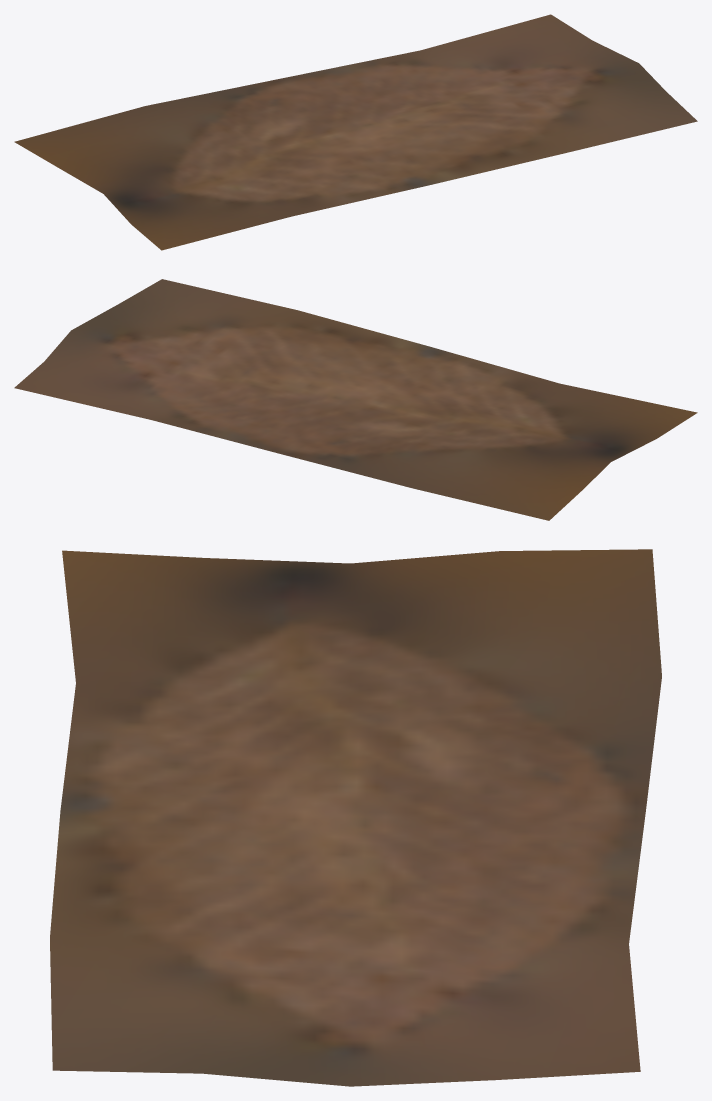
File: SM_Leaf_09.fbx
3 views of the same model, one above another, from view 1: azimuth 30°, elevation 25°; view 2: azimuth 150°, elevation 25°; view 3: azimuth 270°, elevation 25° (orthographic). The views are drawn at different scales.
Parts seen in each view (by area): view 1: SM_Leaf_09; view 2: SM_Leaf_09; view 3: SM_Leaf_09.
Boxes of the visible parts, x1,y1,x2,y2 form: SM_Leaf_09: (14, 14, 697, 250); SM_Leaf_09: (14, 279, 697, 520); SM_Leaf_09: (50, 549, 661, 1086).
Bounding box in the file's own units: 11.39 × 5.49 × 0.1916.
